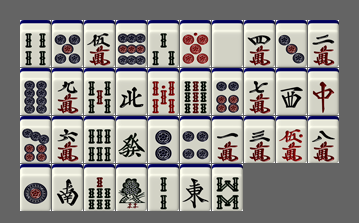0m: (276, 116, 307, 163)
0p: (180, 20, 211, 67)
0s: (148, 68, 179, 115)
1m: (212, 116, 243, 163)
1p: (20, 164, 51, 211)
1s: (116, 164, 147, 211)
1z: (180, 164, 211, 211)
2m: (308, 20, 339, 67)
2p: (148, 116, 179, 163)
2s: (148, 164, 179, 211)
2z: (52, 164, 83, 211)
3m: (244, 116, 275, 163)
3p: (276, 20, 307, 67)
3s: (148, 20, 179, 67)
3z: (276, 68, 307, 115)
4m: (244, 20, 275, 67)
4p: (180, 116, 211, 163)
4s: (20, 20, 51, 67)
4z: (116, 68, 147, 115)
5m: (84, 20, 115, 67)
5p: (52, 20, 83, 67)
5s: (84, 68, 115, 115)
5z: (212, 20, 243, 67)
6m: (52, 116, 83, 163)
6p: (212, 68, 243, 115)
6s: (84, 116, 115, 163)
6z: (116, 116, 147, 163)
7m: (244, 68, 275, 115)
7p: (20, 116, 51, 163)
7s: (84, 164, 115, 211)
7z: (308, 68, 339, 115)
8m: (308, 116, 339, 163)
8p: (20, 68, 51, 115)
8s: (212, 164, 243, 211)
9m: (52, 68, 83, 115)
9p: (116, 20, 147, 67)
9s: (180, 68, 211, 115)
